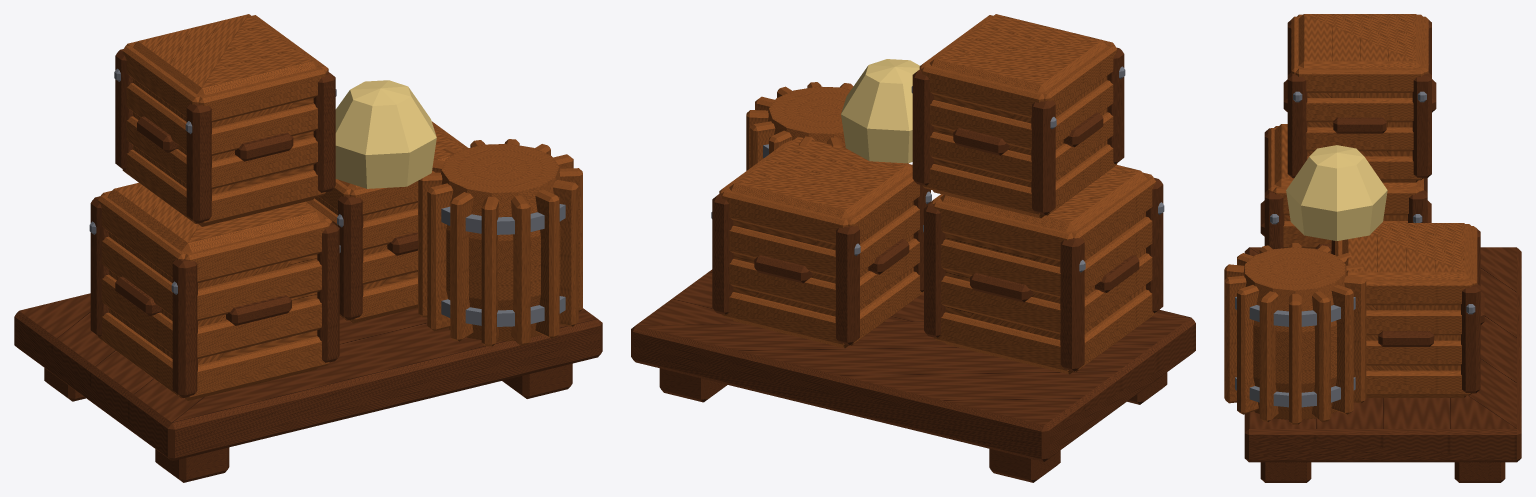
File: fantasy-mmo-city-and-townsfolk-dock-pallet-load-d82cd7a0__32783.glb
3 renders of one model, left to right at view 1: azimuth 30°, elevation 25°; view 2: azimuth 150°, elevation 25°; view 3: azimuth 270°, elevation 25°, orthographic. The views are drawn at different scales.
Visible parts, largest first — view 1: dock-pallet-load; view 2: dock-pallet-load; view 3: dock-pallet-load.
Boxes of the visible parts, left/top/right/bottom form: dock-pallet-load: left=14, top=14, right=602, bottom=482; dock-pallet-load: left=631, top=14, right=1195, bottom=482; dock-pallet-load: left=1224, top=14, right=1521, bottom=482.
Bounding box in the file's own units: 1.9 × 1.54 × 1.29.
Materials: 4 (2 with a texture image).
